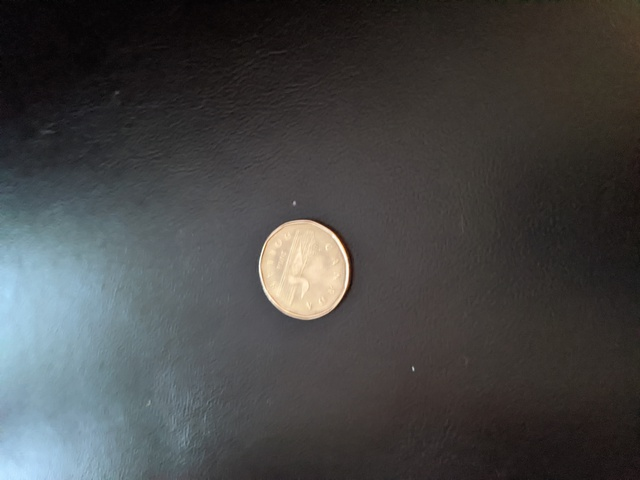loonie: (251, 213, 364, 319)
